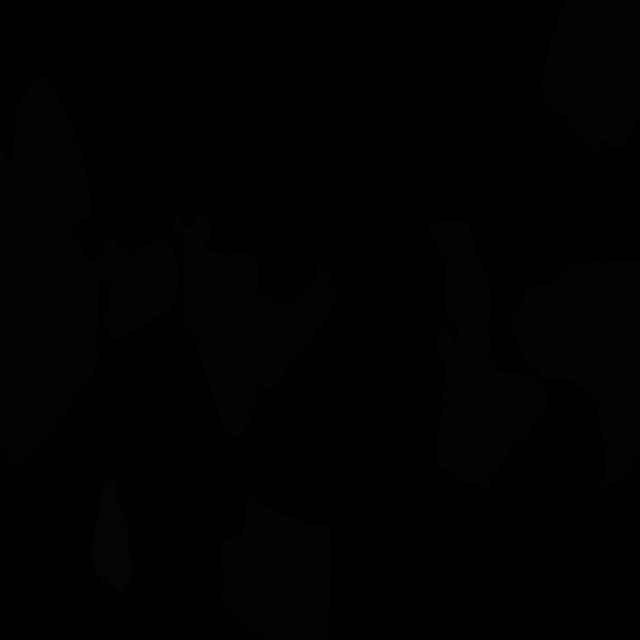cardboard: (0, 72, 104, 471), (428, 220, 548, 488), (510, 257, 640, 495), (170, 202, 262, 439), (219, 495, 332, 640), (537, 0, 640, 154), (256, 264, 338, 391), (102, 239, 180, 343), (0, 144, 32, 392), (56, 134, 94, 220), (102, 237, 131, 291)
soft_plastic: (92, 477, 134, 592)
